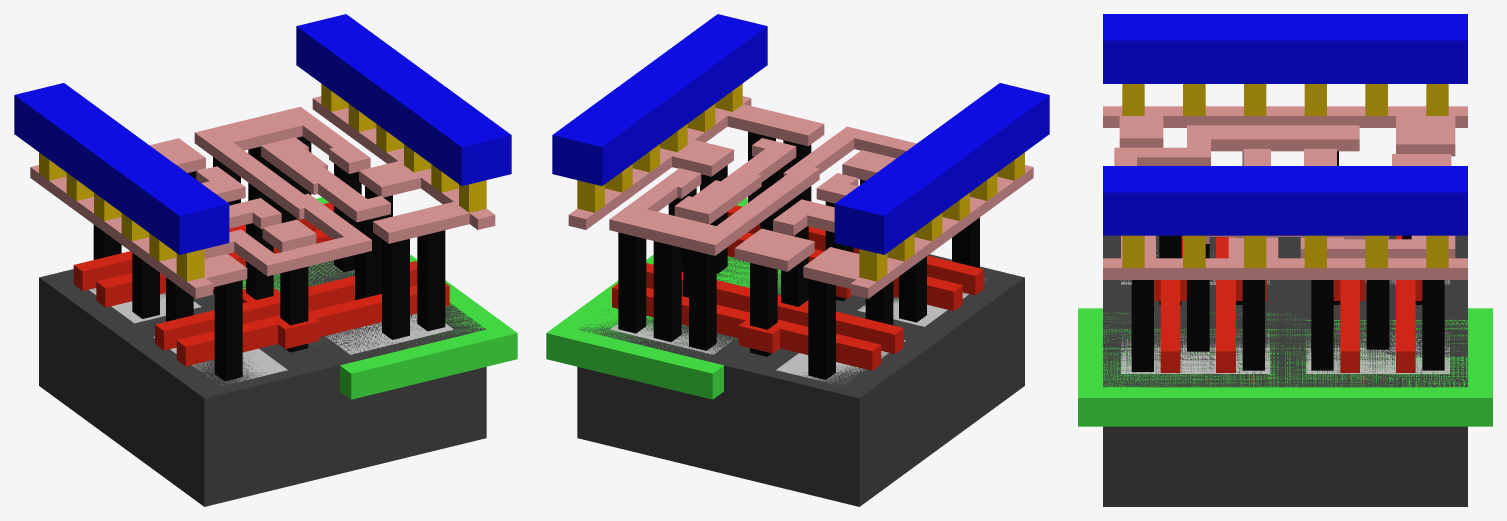
The model's file is sky130_fd_sc_hd__a22oi_1.obj.
3 renders of one model, left to right at view 1: azimuth 30°, elevation 25°; view 2: azimuth 150°, elevation 25°; view 3: azimuth 270°, elevation 25°, orthographic. The views are drawn at different scales.
Parts seen in each view (by area): view 1: subs, metal1, li, licon, poly, nwell, mcon, tap, diff; view 2: subs, metal1, li, licon, poly, nwell, mcon, diff, tap; view 3: metal1, subs, li, nwell, licon, mcon, poly, tap.
Part boxes in pixels (x1,y1,x2,y2): subs: [39, 260, 486, 506]; metal1: [14, 14, 511, 254]; li: [30, 96, 495, 298]; licon: [93, 136, 445, 381]; poly: [73, 202, 449, 366]; nwell: [242, 197, 517, 399]; mcon: [39, 83, 486, 281]; tap: [310, 263, 453, 354]; diff: [89, 288, 287, 384]; subs: [577, 254, 1024, 506]; metal1: [552, 14, 1049, 254]; li: [568, 96, 1033, 298]; licon: [618, 131, 979, 379]; poly: [612, 205, 984, 370]; nwell: [546, 198, 780, 399]; mcon: [577, 83, 1024, 281]; diff: [776, 279, 986, 384]; tap: [610, 322, 733, 354]; metal1: [1103, 14, 1467, 235]; subs: [1103, 235, 1467, 506]; li: [1103, 106, 1467, 279]; nwell: [1078, 308, 1492, 426]; licon: [1131, 151, 1444, 371]; mcon: [1122, 84, 1448, 267]; poly: [1154, 235, 1422, 372]; tap: [1121, 329, 1449, 373].
Size of the model in its own units: 3.2 by 2.74 by 3.14.
